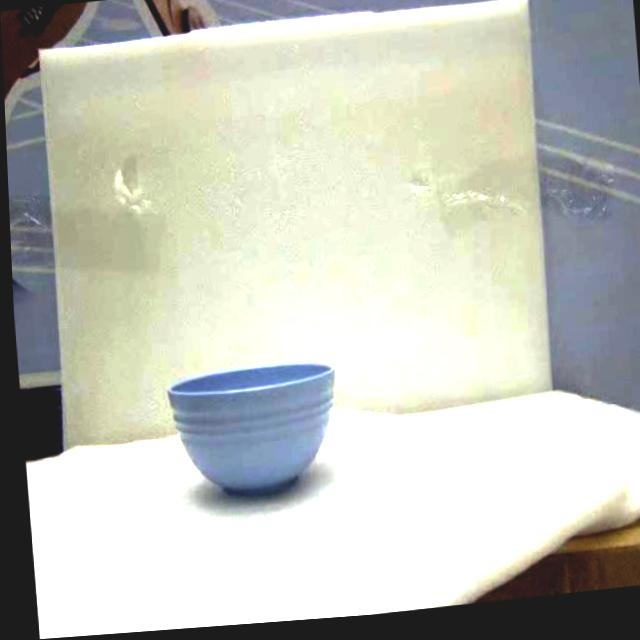Bowl: (169, 363, 333, 493)
